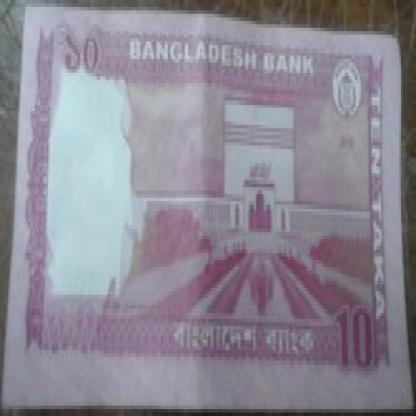one hundred taka: (324, 308, 382, 378), (58, 17, 103, 87)
